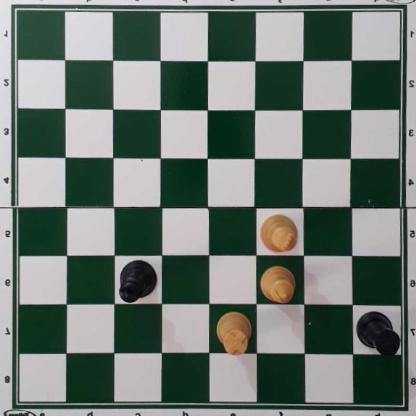black-king: (116, 261, 157, 303)
black-rook: (355, 313, 401, 357)
white-bishop: (260, 266, 295, 305)
white-king: (258, 214, 297, 254)
white-rook: (216, 314, 251, 355)
